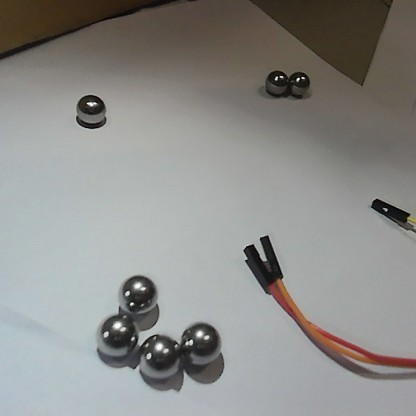ironball: (86, 309, 139, 362), (178, 316, 228, 366), (133, 332, 182, 382), (116, 272, 158, 313), (73, 94, 106, 125), (285, 66, 312, 99), (262, 66, 289, 95)
